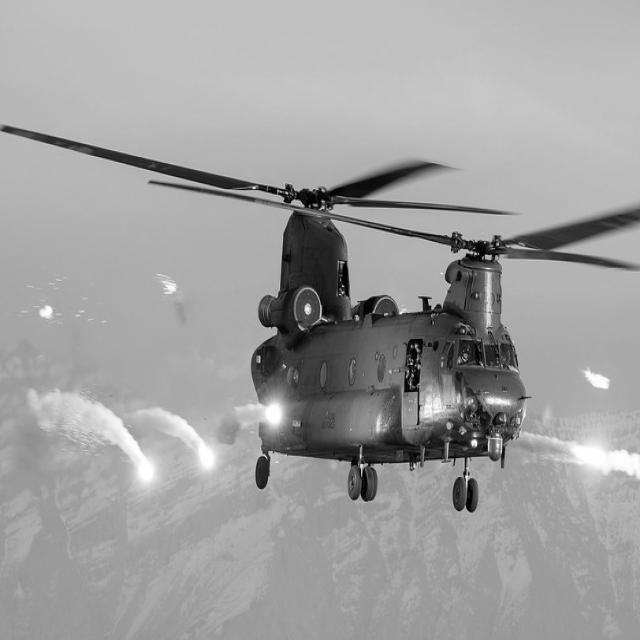helicopter: (1, 124, 640, 502)
